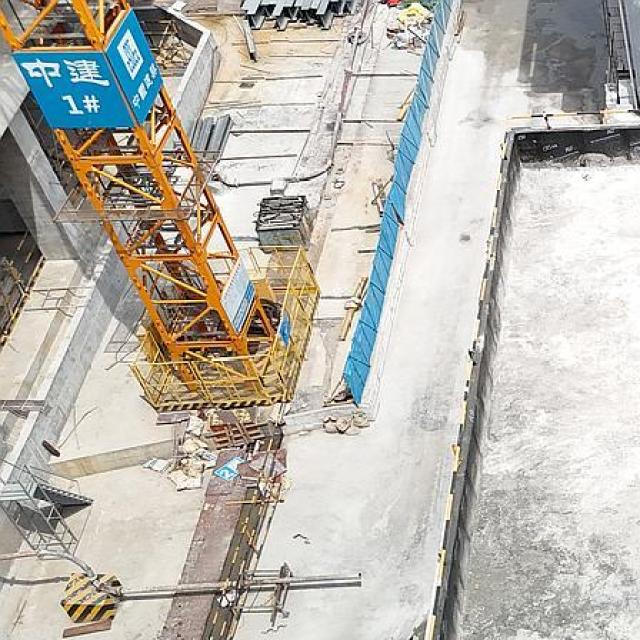edge_guardrail: (427, 108, 640, 640), (0, 227, 44, 345), (138, 19, 189, 67)
